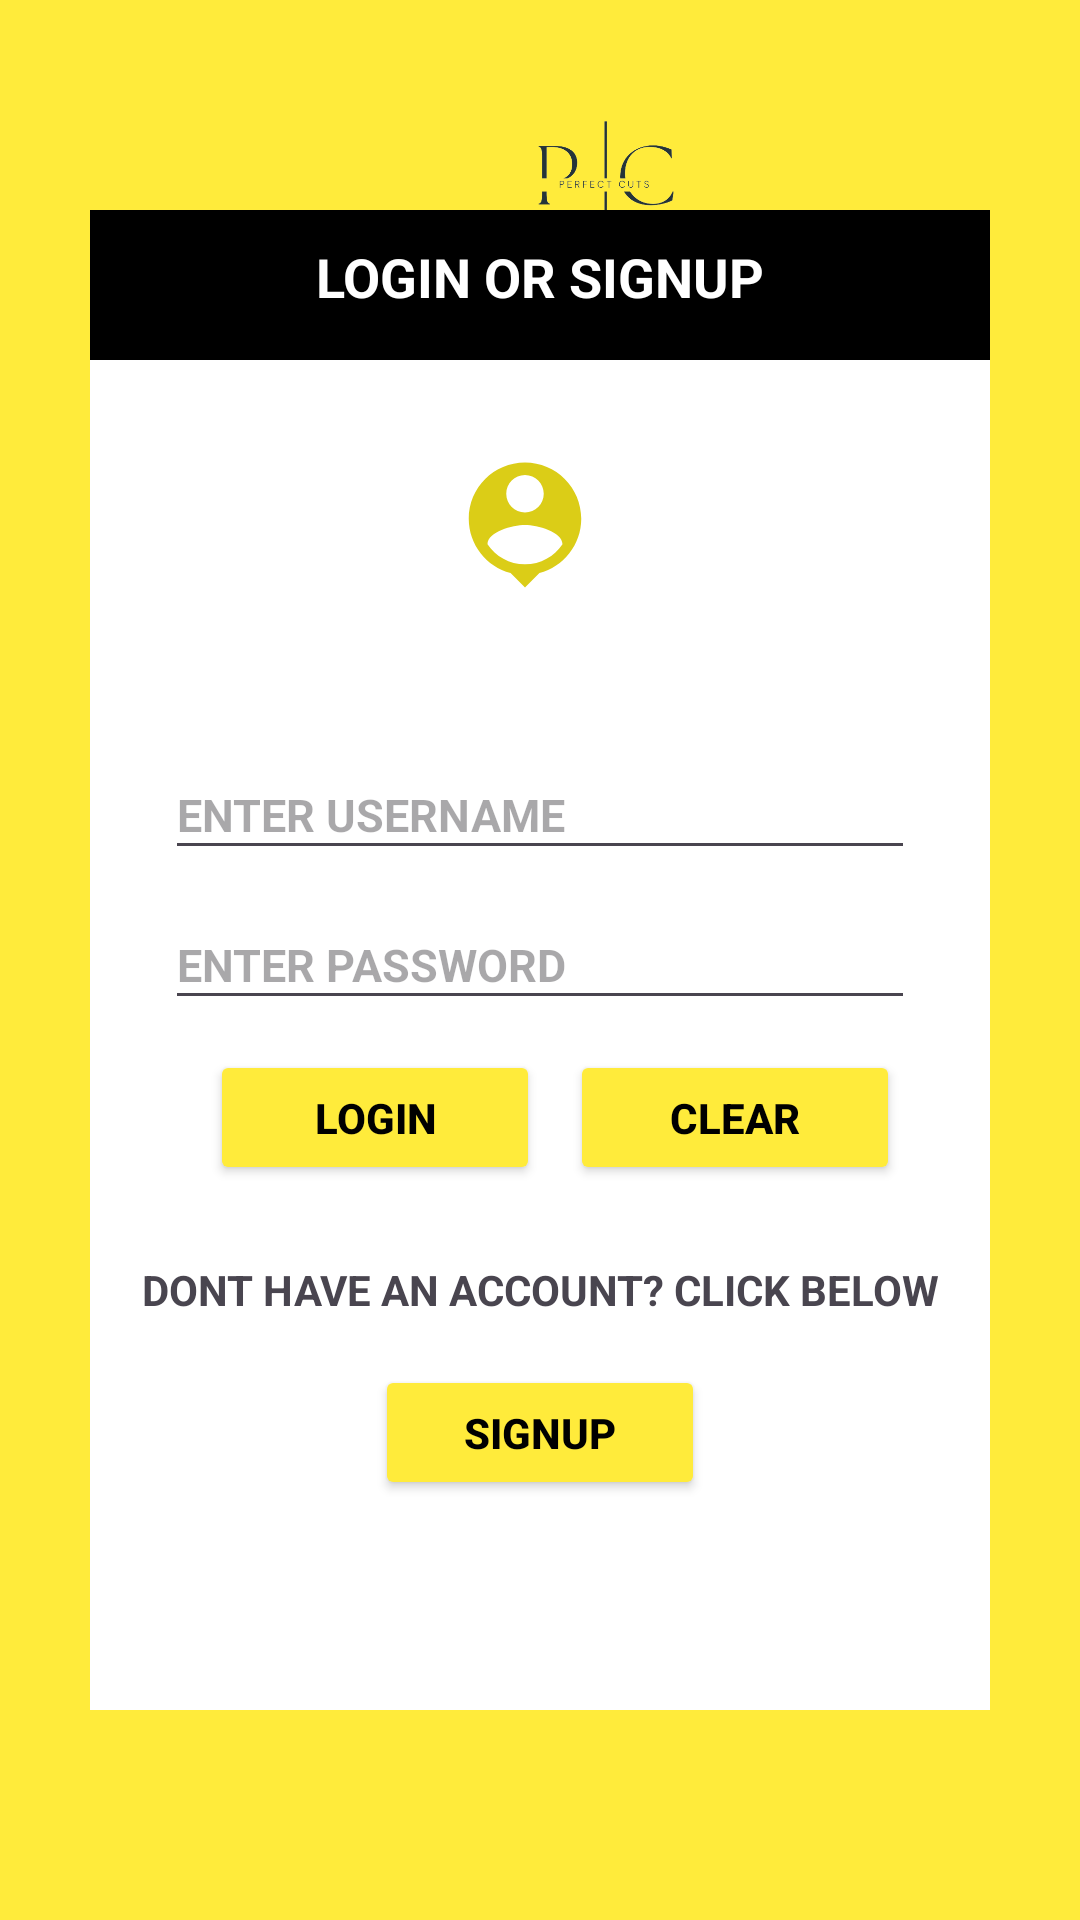

Where to tap for icons on this 1080 × 1920 app screen, as (x=x, y=y):
person pin: (x=525, y=525)
